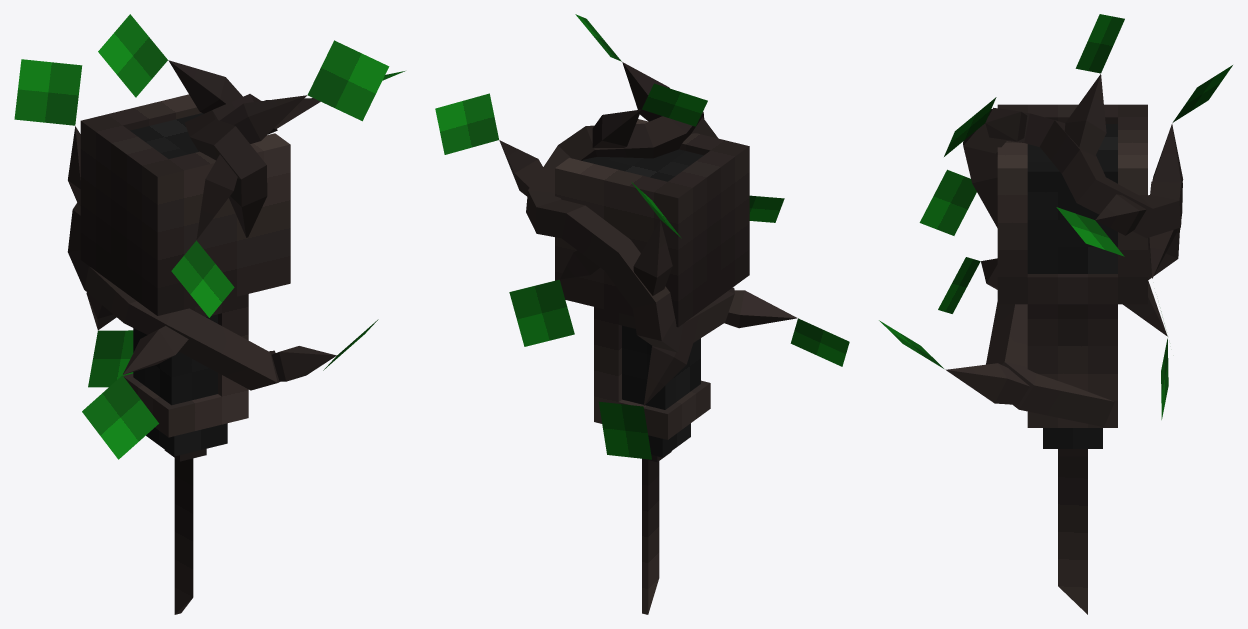
Rendered from arm_blade_r.obj.
3 views of the same model, side by side, from view 1: azimuth 30°, elevation 25°; view 2: azimuth 150°, elevation 25°; view 3: azimuth 270°, elevation 25° (orthographic). The views are drawn at different scales.
Visible parts, largest first — view 1: ARM_RIGHT_BLADE_Cube.044, ARM_RIGHT_DECO_WOOD_Cube.023; view 2: ARM_RIGHT_DECO_WOOD_Cube.023, ARM_RIGHT_BLADE_Cube.044; view 3: ARM_RIGHT_BLADE_Cube.044, ARM_RIGHT_DECO_WOOD_Cube.023.
Part boxes in pixels (bbox=[...]): ARM_RIGHT_BLADE_Cube.044: bbox=[80, 94, 290, 614]; ARM_RIGHT_DECO_WOOD_Cube.023: bbox=[14, 14, 404, 459]; ARM_RIGHT_DECO_WOOD_Cube.023: bbox=[435, 14, 849, 459]; ARM_RIGHT_BLADE_Cube.044: bbox=[555, 119, 749, 614]; ARM_RIGHT_BLADE_Cube.044: bbox=[997, 104, 1147, 614]; ARM_RIGHT_DECO_WOOD_Cube.023: bbox=[879, 14, 1232, 426].
Size of the model in its own units: 0.9066 by 1.33 by 0.7382.
